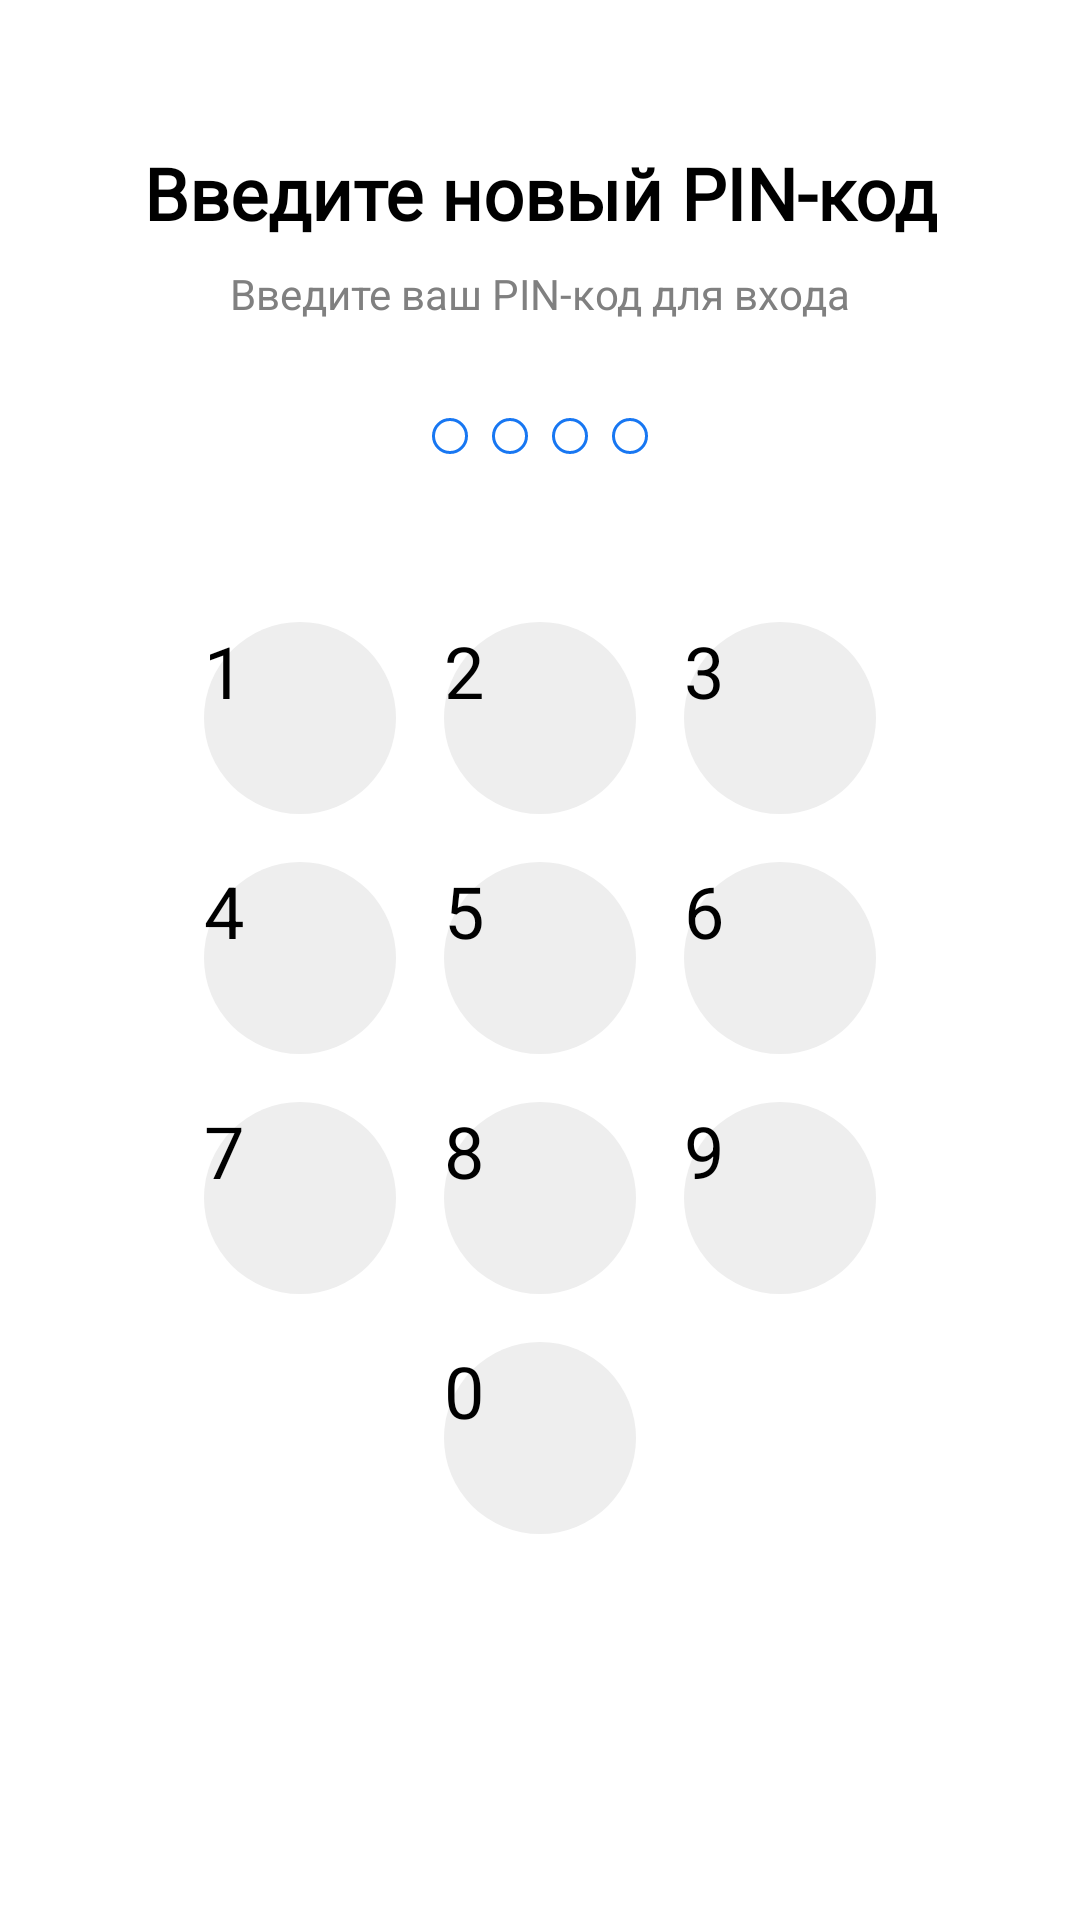

Named icons in this screenshot (1080w x 1920h) and their bounding boxes, (x1, y1, x2, y2):
pin dot: (432, 418, 468, 454), (492, 418, 528, 454), (552, 418, 588, 454), (612, 418, 648, 454)
